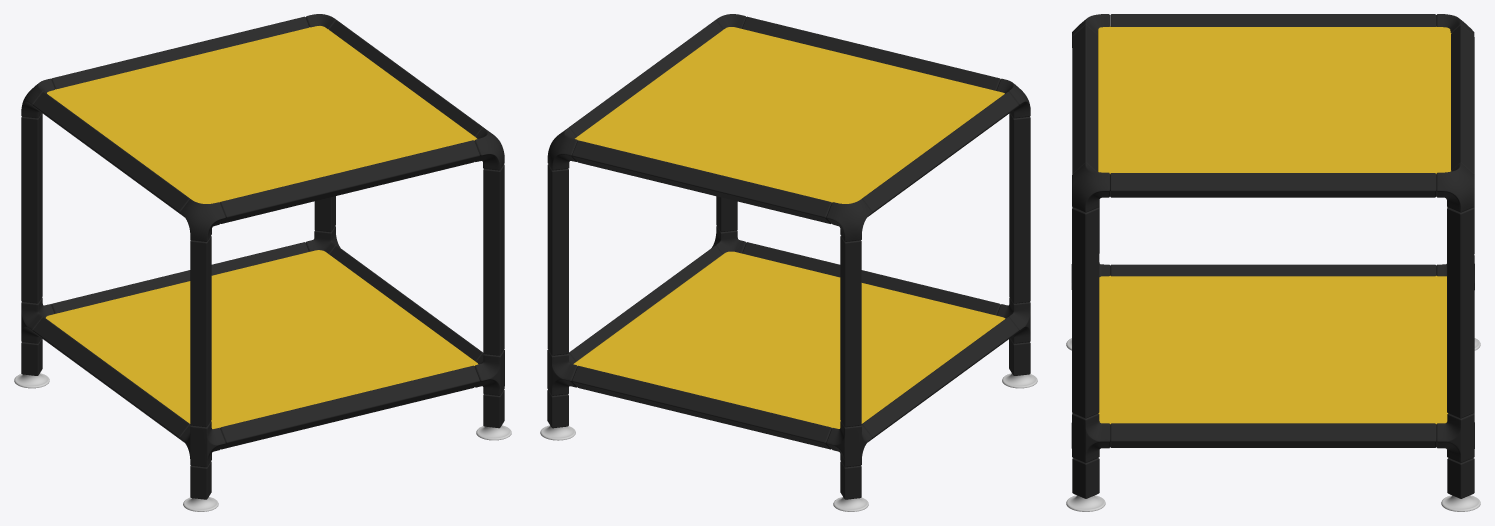
3 renders of one model, left to right at view 1: azimuth 30°, elevation 25°; view 2: azimuth 150°, elevation 25°; view 3: azimuth 270°, elevation 25°, orthographic. The views are drawn at different scales.
Visible parts, largest first — view 1: 329x329x229; view 2: 329x329x229; view 3: 329x329x229.
Boxes of the visible parts, x1=… form: 329x329x229: x1=14, y1=14, x2=511, y2=511; 329x329x229: x1=540, y1=14, x2=1037, y2=511; 329x329x229: x1=1066, y1=14, x2=1480, y2=511.
Size of the model in its own units: 0.4189 by 0.3683 by 0.4182.
